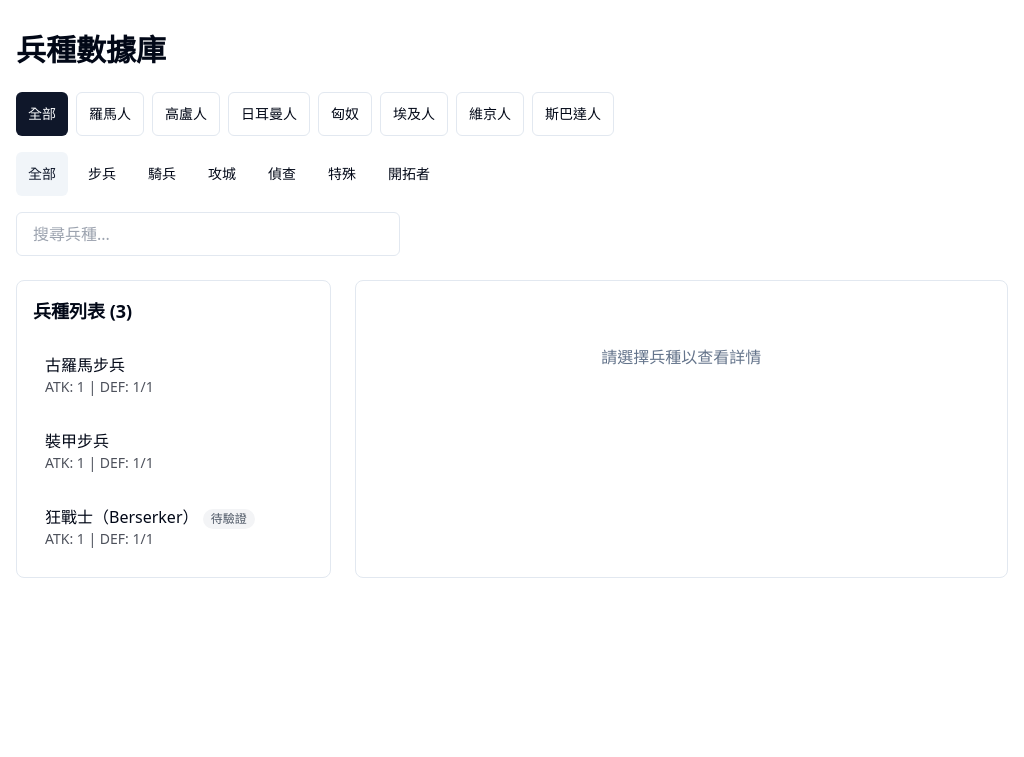
TroopsPage: one 「待驗證」 chip for unit costs / upkeep / training time (P0-17) › 裝甲步兵, tribe marked unverified (mocked): exactly one units chip, next to the 「訓練成本」 heading
Click the text "裝甲步兵": (77, 441) [45,430,109,452]
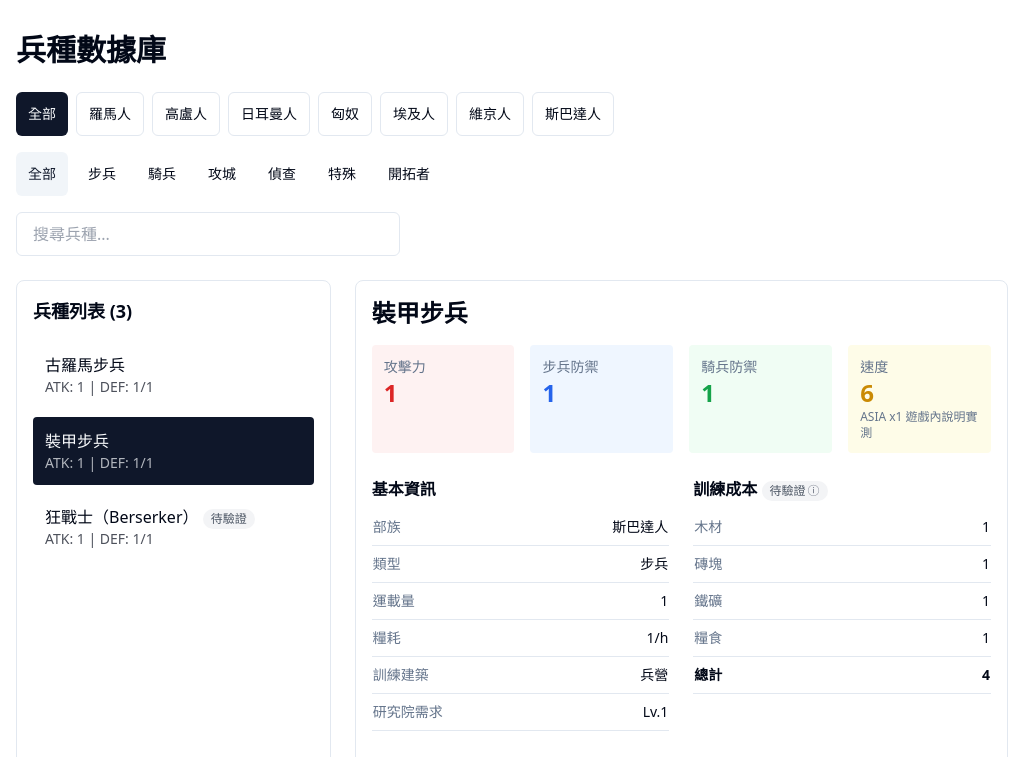
Expected: the heading with test id "troop-cost-heading" shows "訓練成本", [693,478,762,500]
Expected: the number of buttons with test id "pending-verify-chip" is 1, [762,481,828,501]
